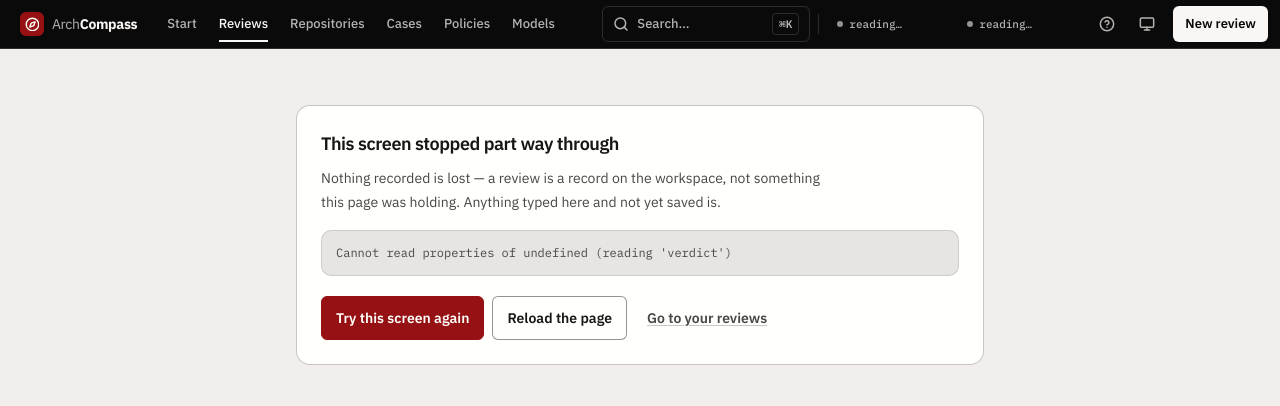
Test case: the error boundary › clears itself when the reader goes somewhere else
Check: the message is shown, box [272, 81, 1008, 389]
What coordinates should you click on to do the following:
click the link "Policies"
I would click on:
 (467, 24)
Its box is [444, 15, 490, 32].
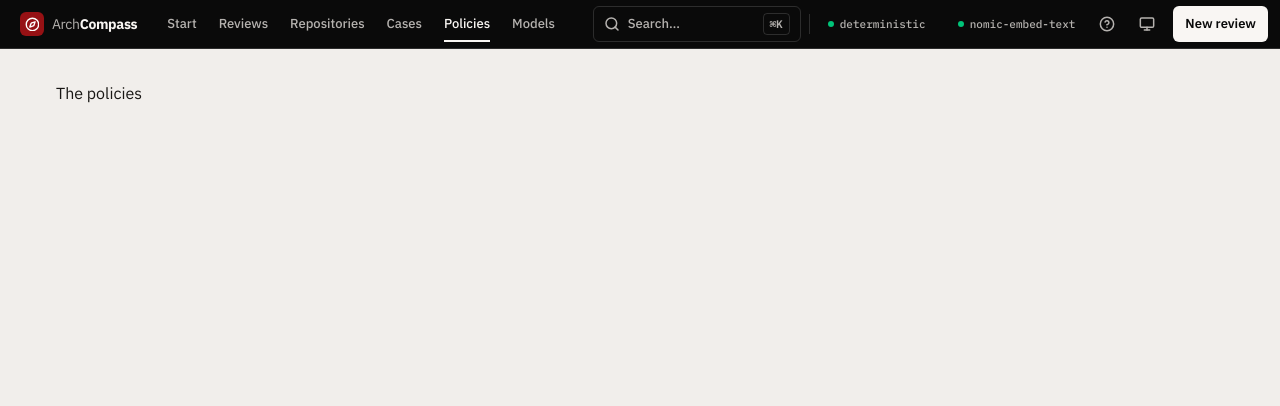
Check: the message is gone
Check: the text "The policies" is shown, box [56, 83, 142, 103]
